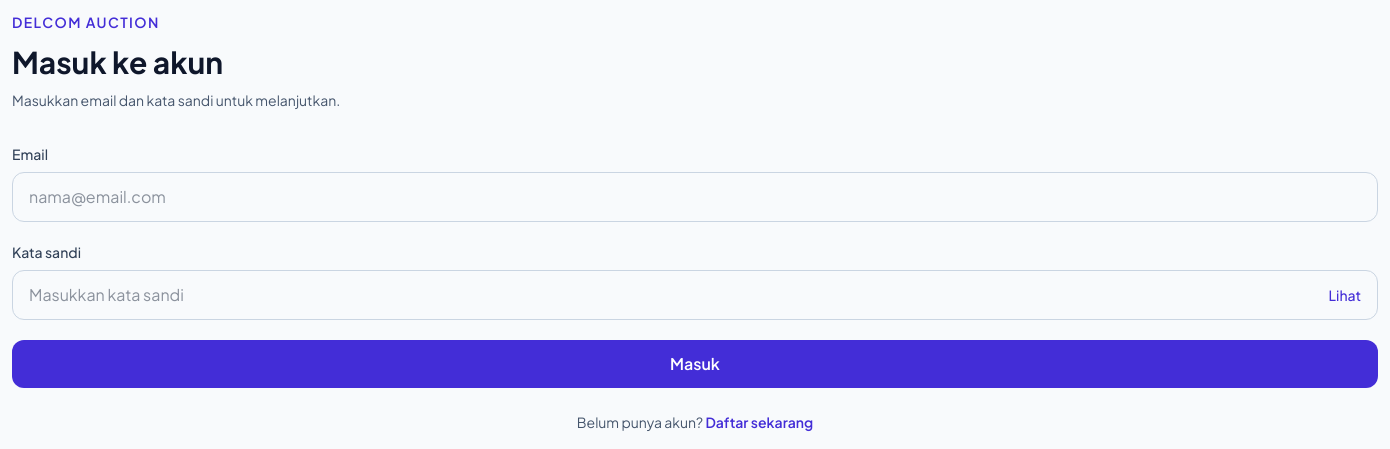
Scenario: LoginPage › menautkan ke halaman registrasi dan menonaktifkan tombol saat proses
The image size is (1390, 449).
In the field with id "login-email-input": (695, 197) [12, 172, 1378, 222], type "a@b.com"
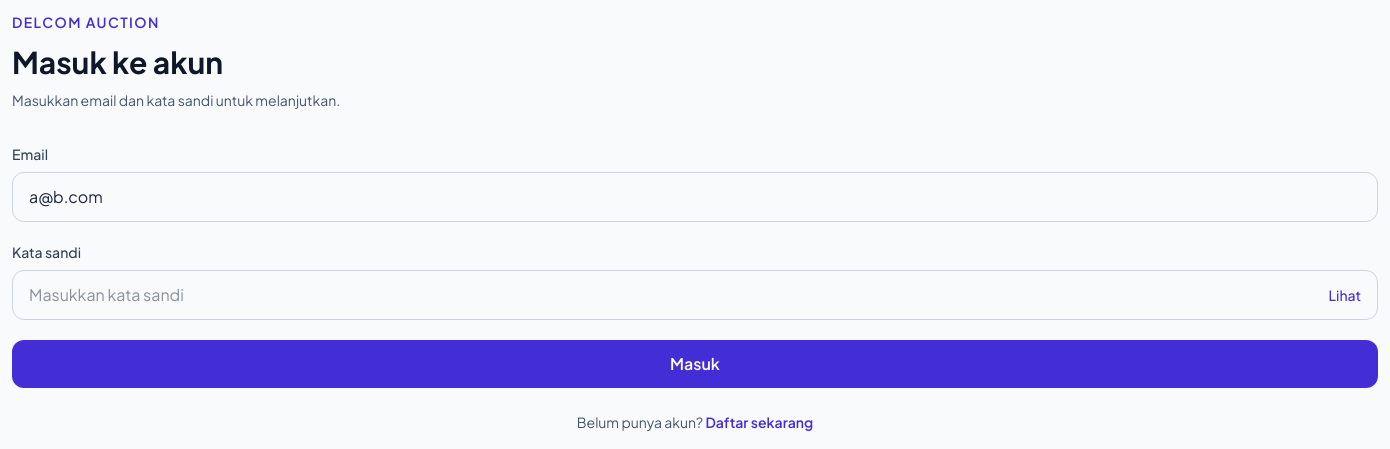
In the password field with id "login-password-input": (663, 295) [13, 271, 1313, 319], type "rahasia"
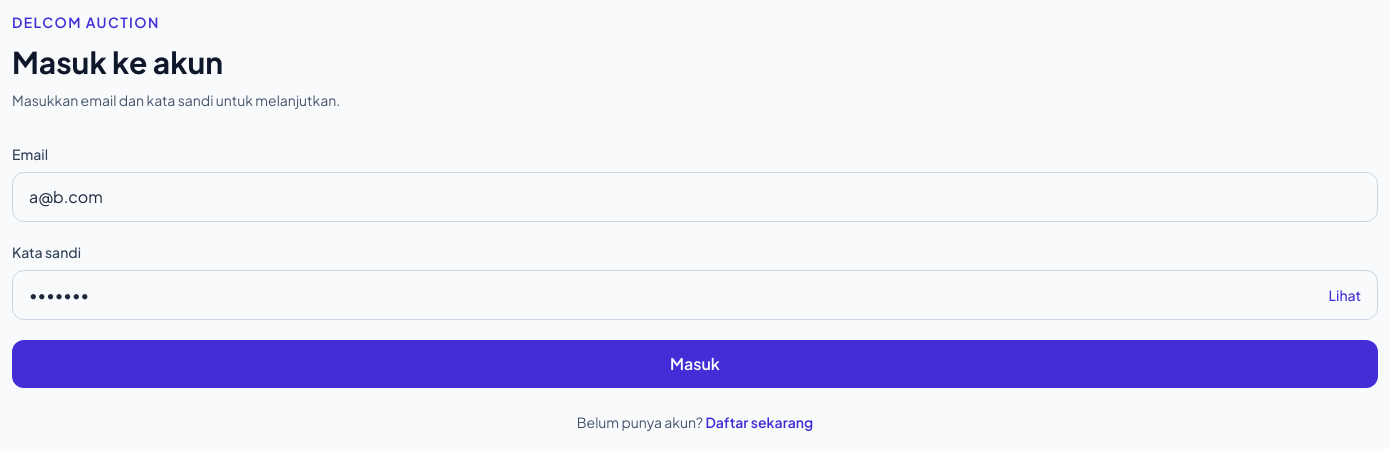
Submit the form, box [12, 144, 1378, 388]
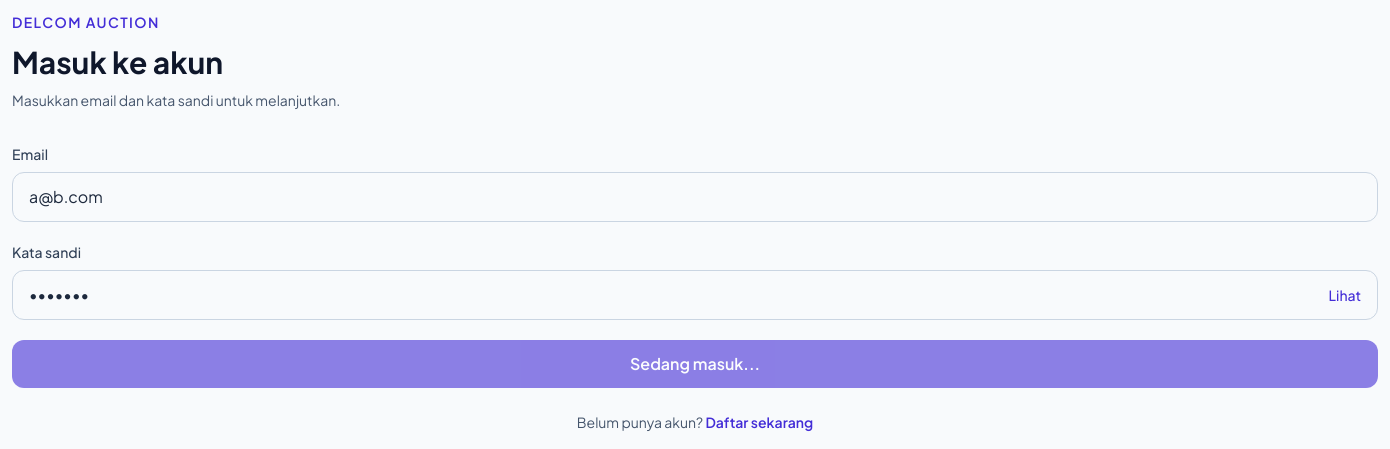
Now the button with id "login-submit-button" reads "Sedang masuk...", box [12, 340, 1378, 388]
